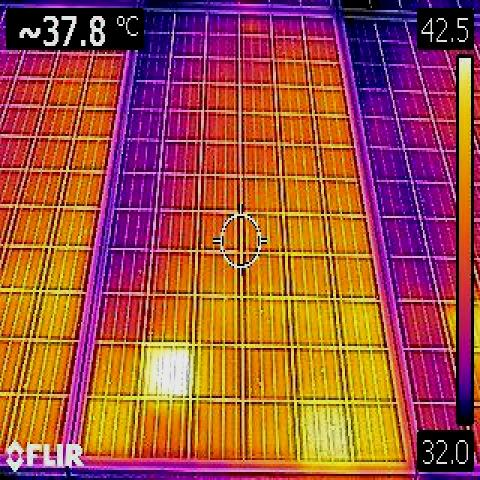fault: (142, 343, 191, 398)
